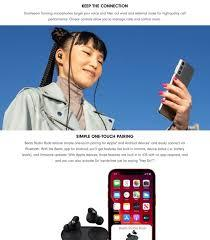earphone: (57, 52, 63, 60)
